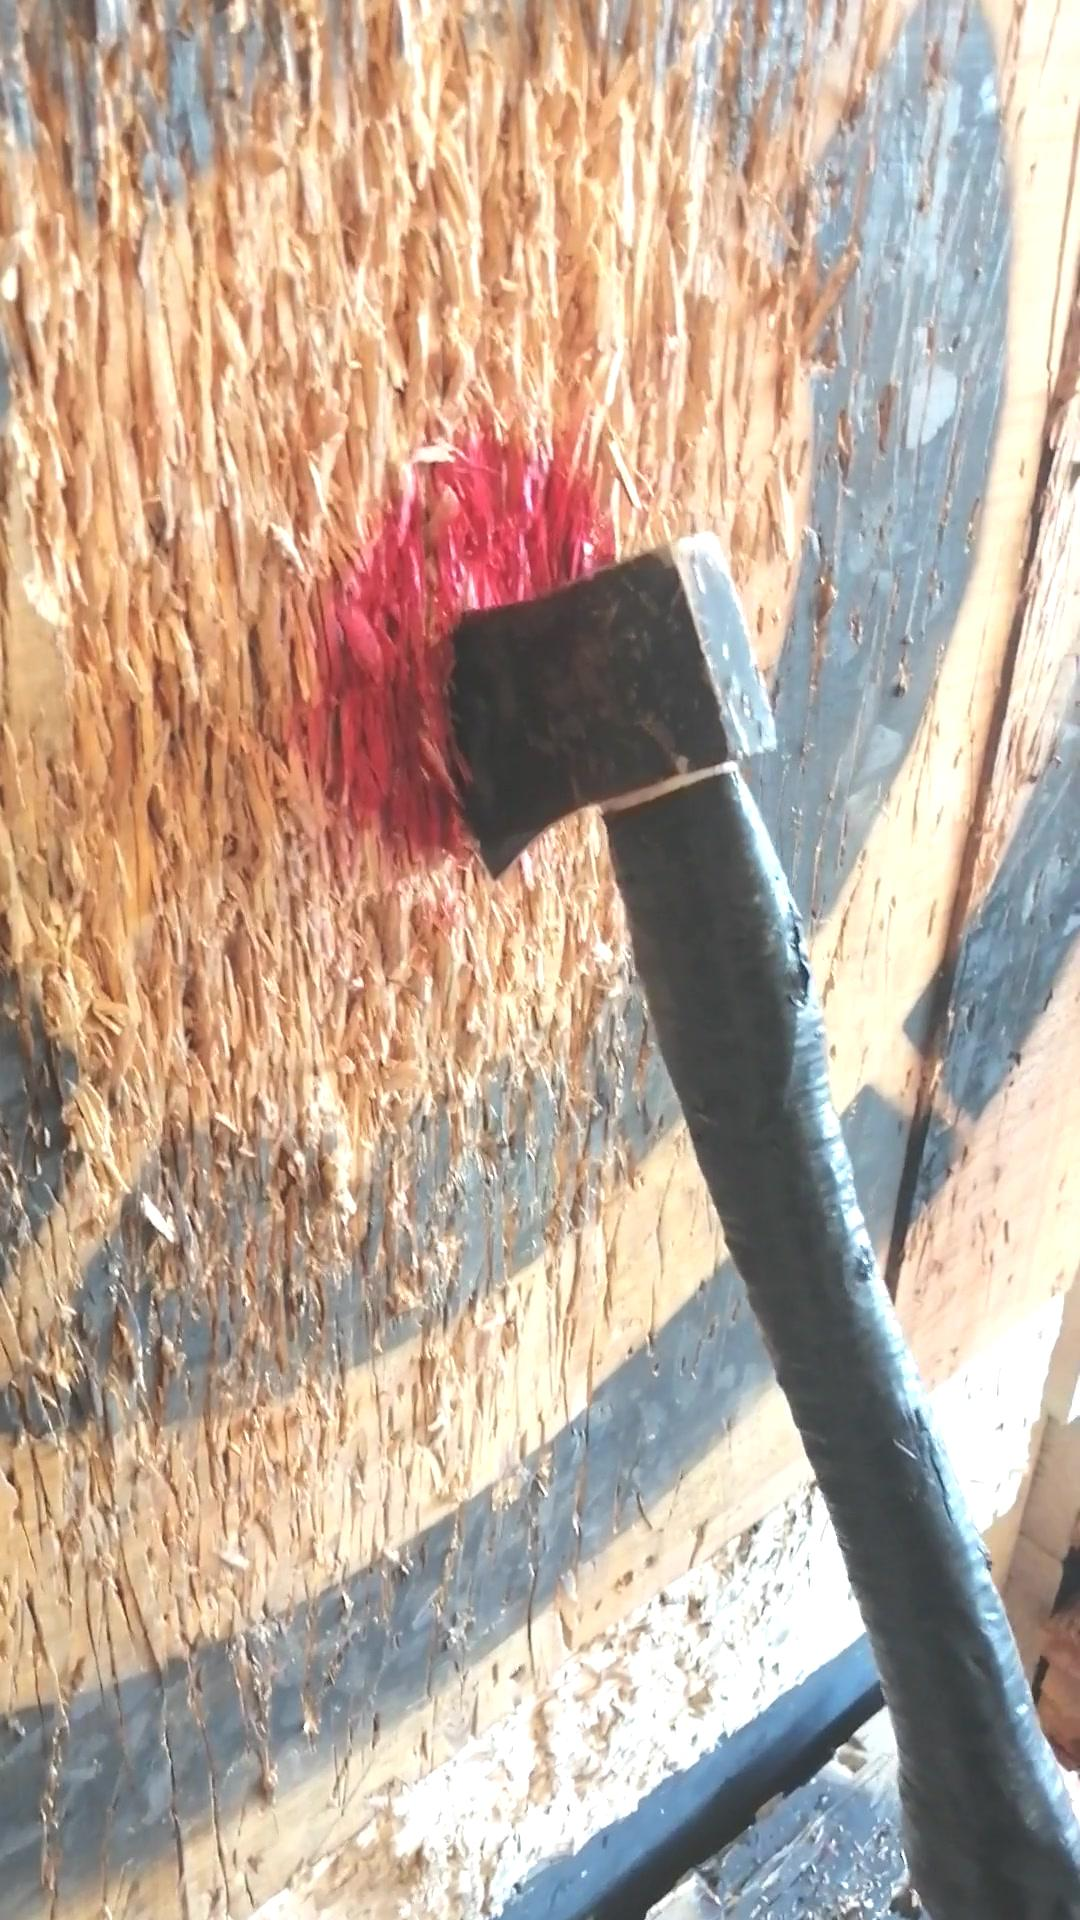Hand Axe: (443, 530, 782, 885)
